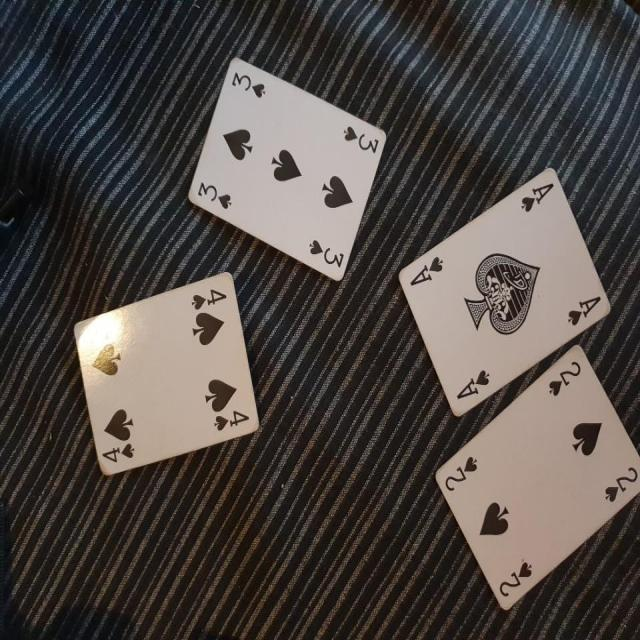2 Spades: (431, 339, 640, 631)
3 Spades: (179, 44, 389, 286)
4 Spades: (63, 255, 265, 486)
A Spades: (399, 151, 613, 432)
